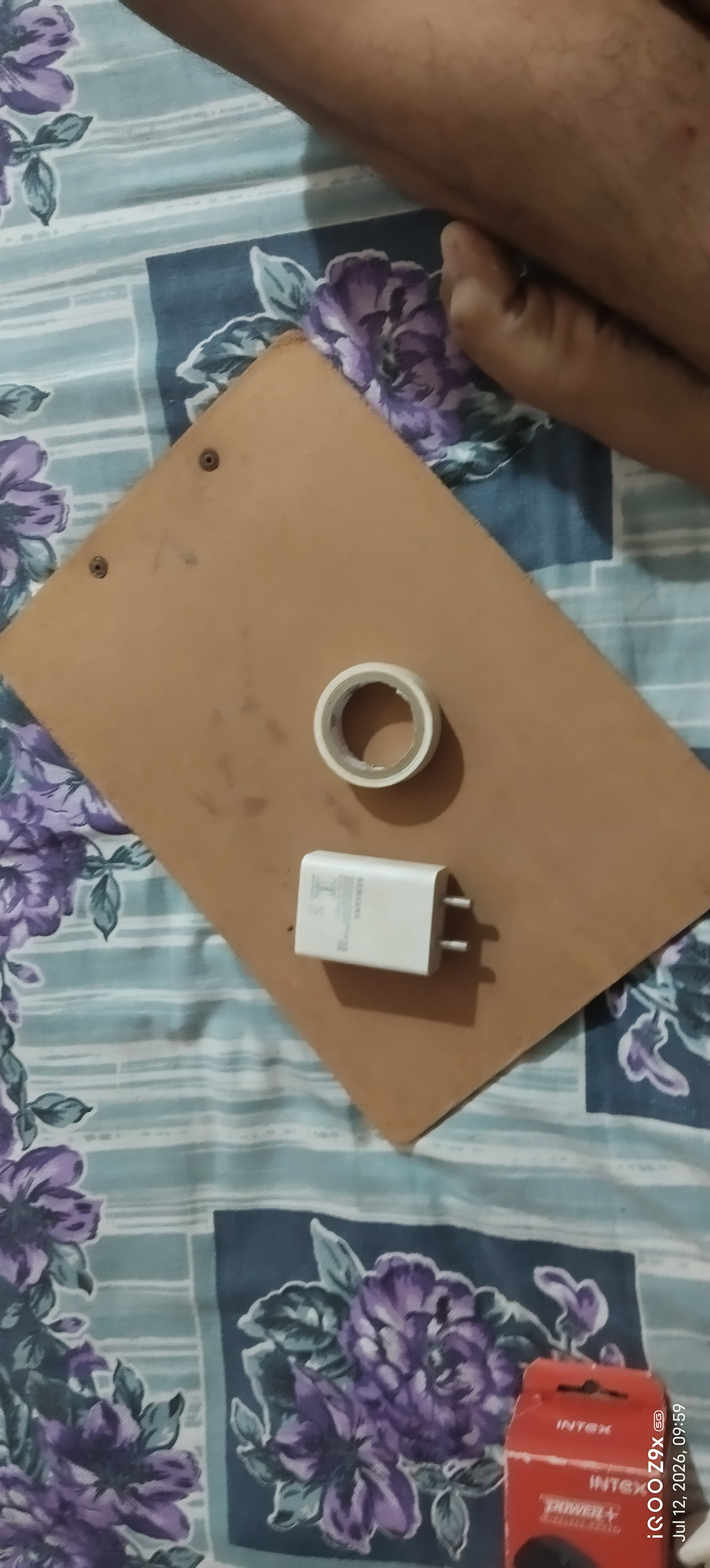charger: (289, 837, 482, 998)
tape_roll: (302, 658, 452, 804)
